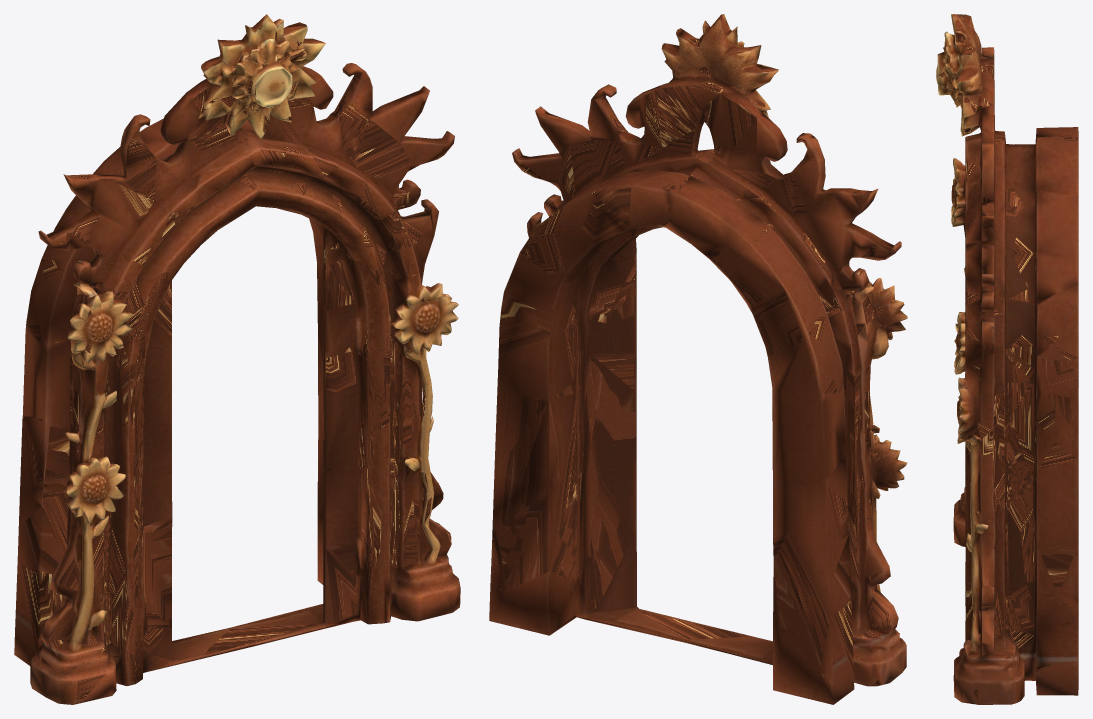
The model's file is pipsSungate.2ec2202c.glb.
The picture shows the model from 3 angles, left to right: view 1: azimuth 30°, elevation 25°; view 2: azimuth 150°, elevation 25°; view 3: azimuth 270°, elevation 25°; orthographic projection. The views are drawn at different scales.
Bounding box in the file's own units: 1.27 × 1.9 × 0.4088.
Materials: 1 (1 with a texture image).
